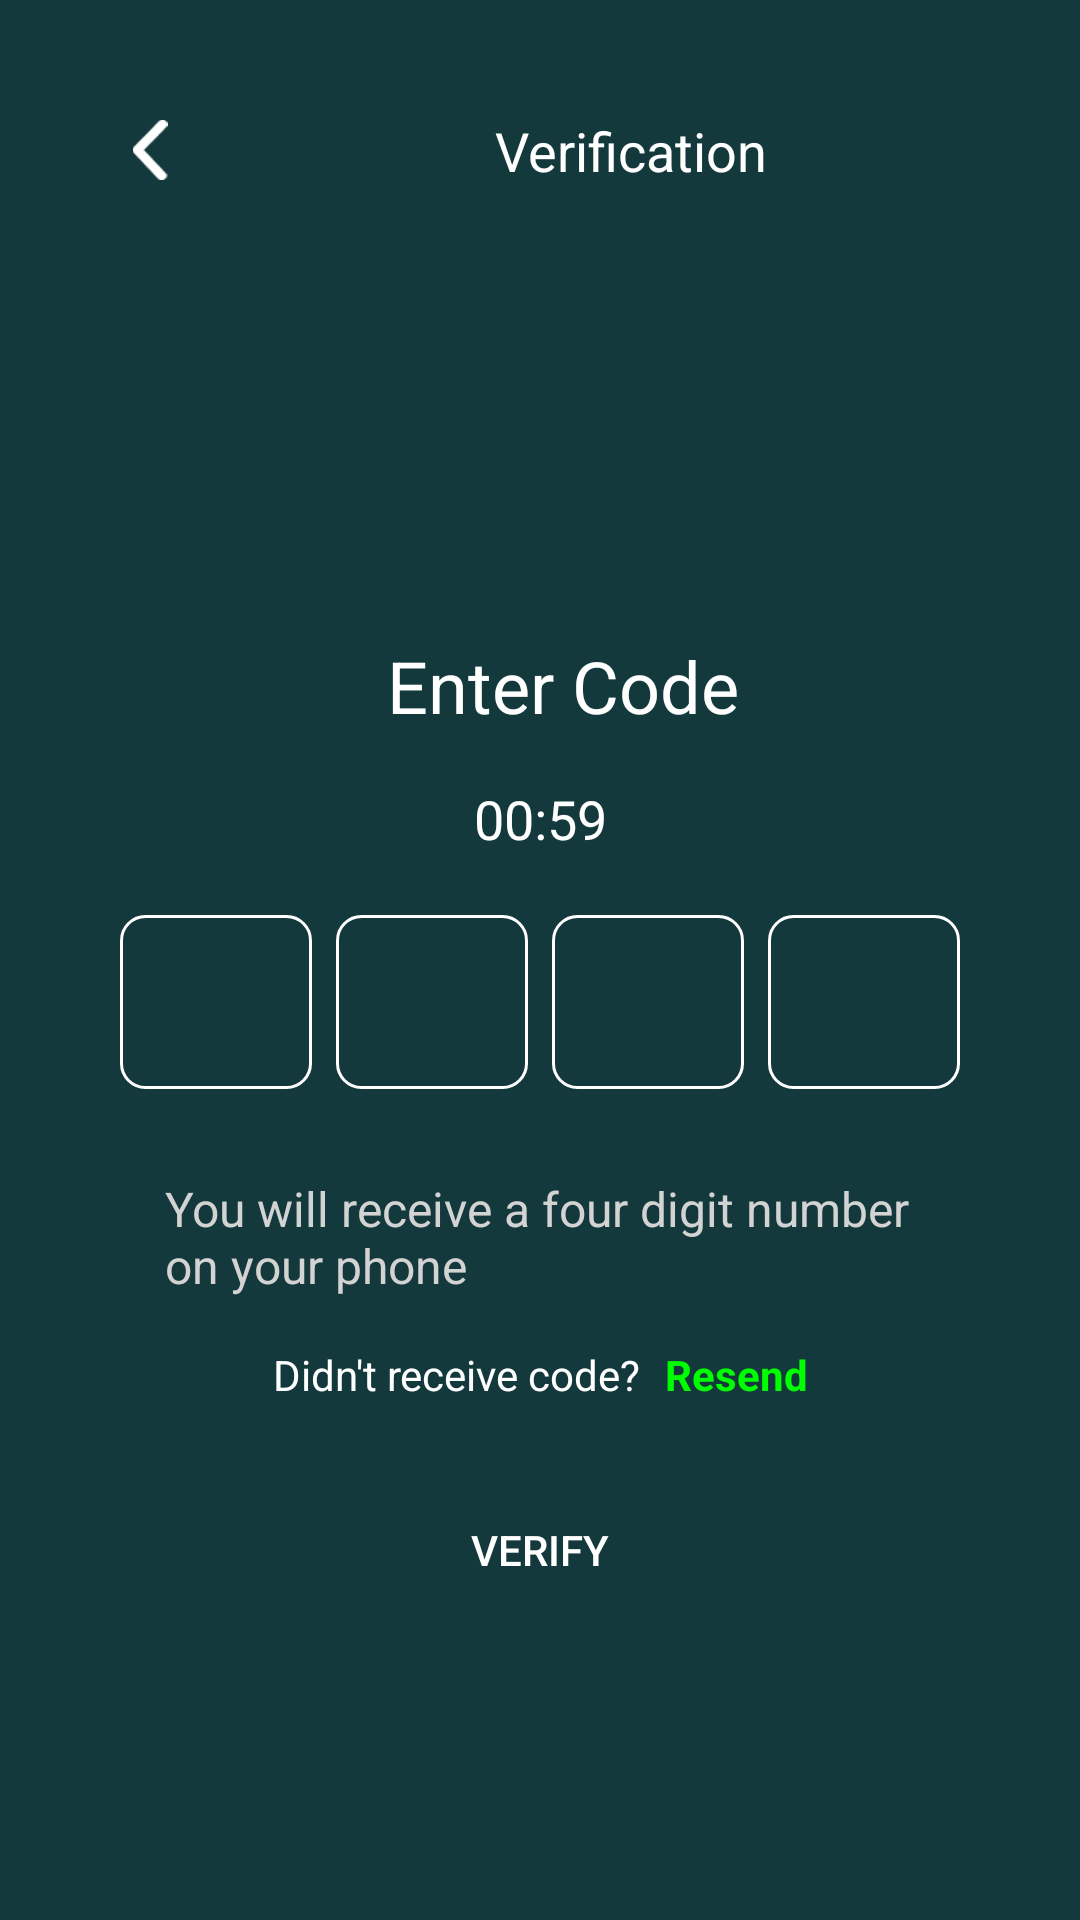

Icon click points for this 1080w x 1920h phone screenshot, format [x,y]:
upscaledarrow: [150,150]
